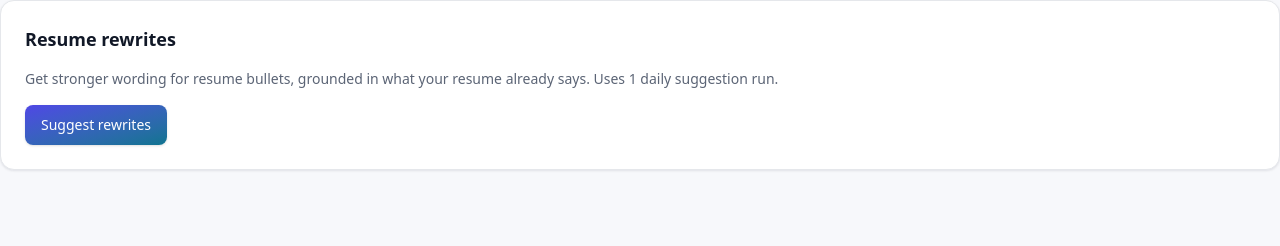
Scenario: Suggestions › shows the message of an error event
The image size is (1280, 246).
Click the button "Suggest rewrites".
click(96, 125)  # box [25,105,167,145]
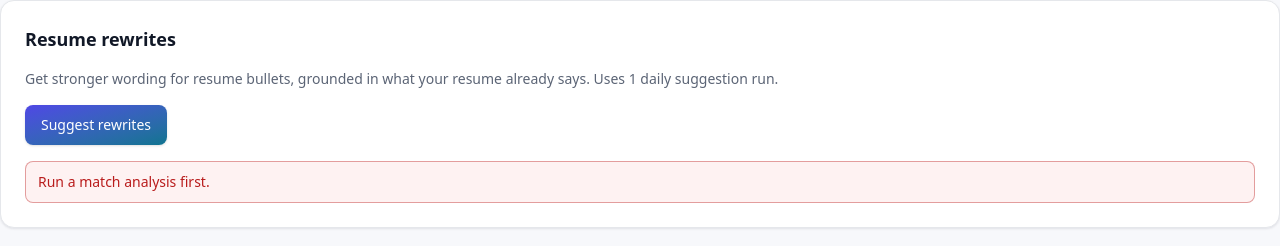
Result: the message reads "Run a match analysis first." at [38,172,210,191]
